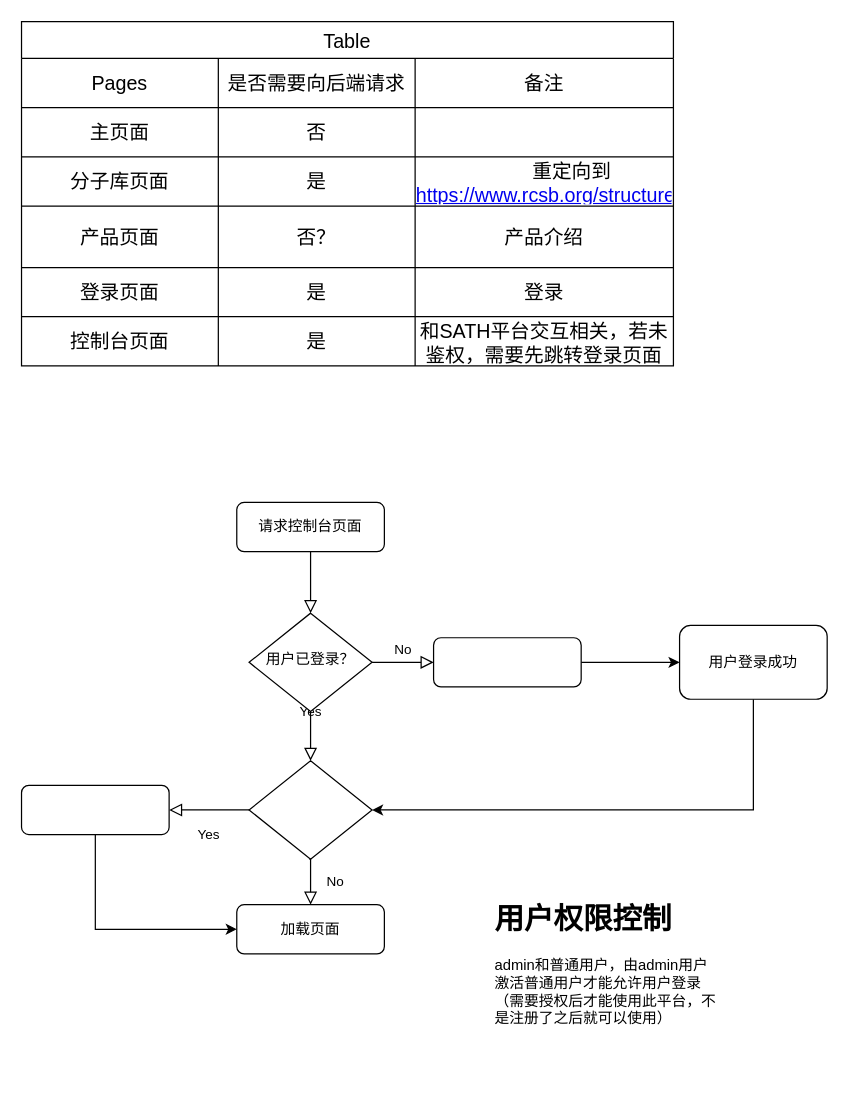
Image size: 849x1100. Some labels were removed from this diagram. Here are the shapes that lost their labels. From the top down, the centre of each, then its label:
the point at 506,662: 重定向至登录页面
the point at 94,809: 返回用户有权限的menu
the point at 310,809: 用户权限控制
